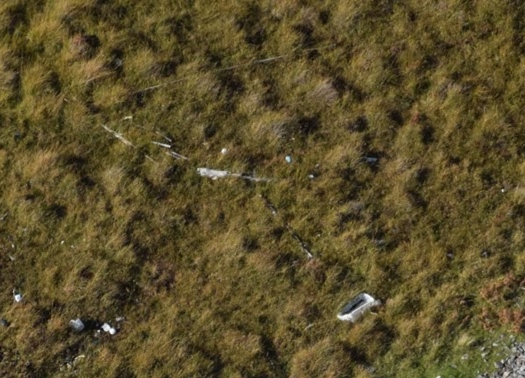straight_bar: (196, 161, 284, 190)
tube: (204, 56, 271, 82), (130, 72, 192, 100)
white_in_green: (319, 271, 403, 343)
